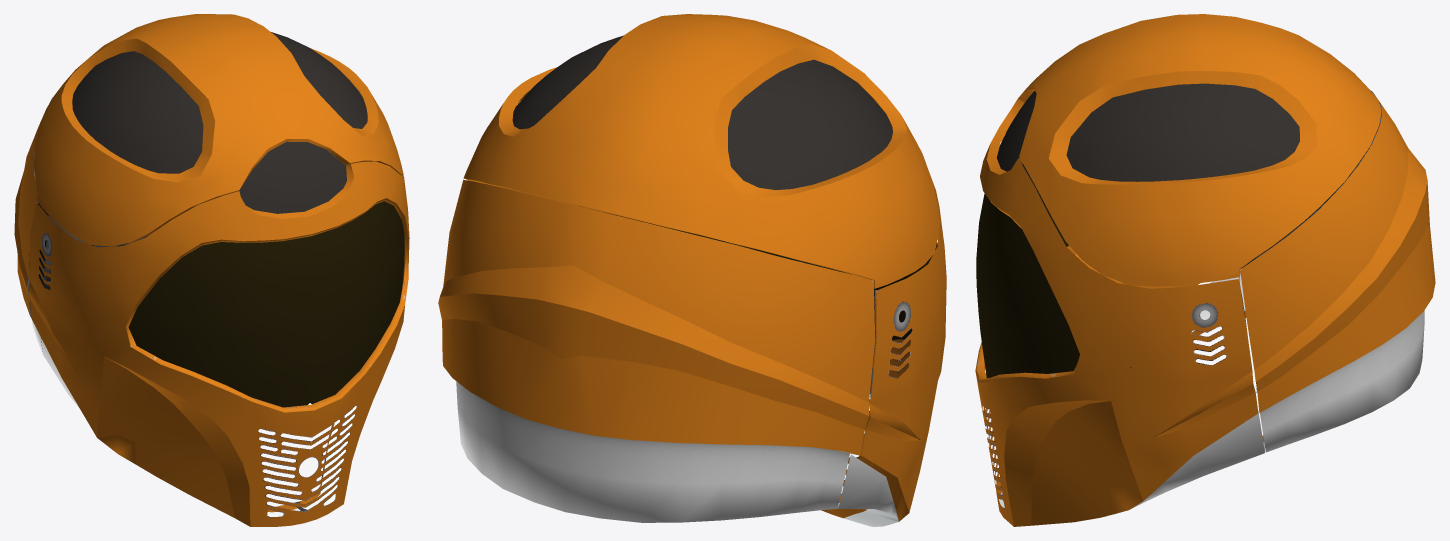
Rendered from Head.dae.
3 renders of one model, left to right at view 1: azimuth 30°, elevation 25°; view 2: azimuth 150°, elevation 25°; view 3: azimuth 270°, elevation 25°, orthographic. The views are drawn at different scales.
Parts seen in each view (by area): view 1: Mesh; view 2: Mesh; view 3: Mesh.
Part boxes in pixels (bbox=[...]): Mesh: bbox=[14, 14, 409, 526]; Mesh: bbox=[438, 14, 946, 526]; Mesh: bbox=[975, 14, 1435, 526].
Size of the model in its own units: 0.2536 by 0.3102 by 0.2747.
Materials: 5 (5 with a texture image).
